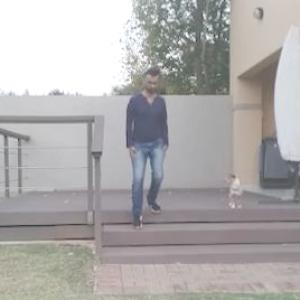follow: (123, 66, 164, 227)
